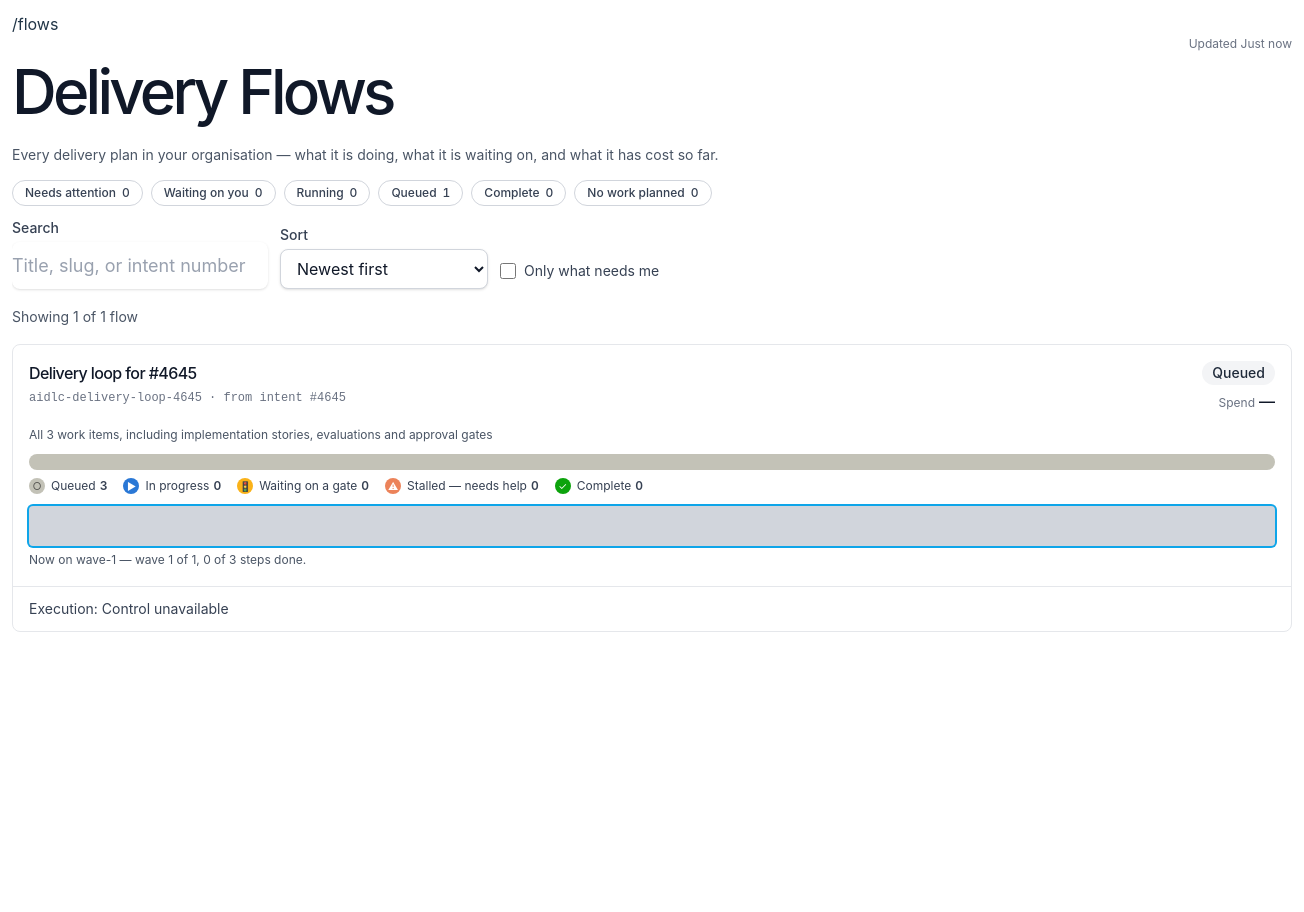
it: filters live in the query string › writes the search box into the URL
Type "4645" into the field labelled "Search". click: (140, 265)
box: [12, 242, 268, 288]
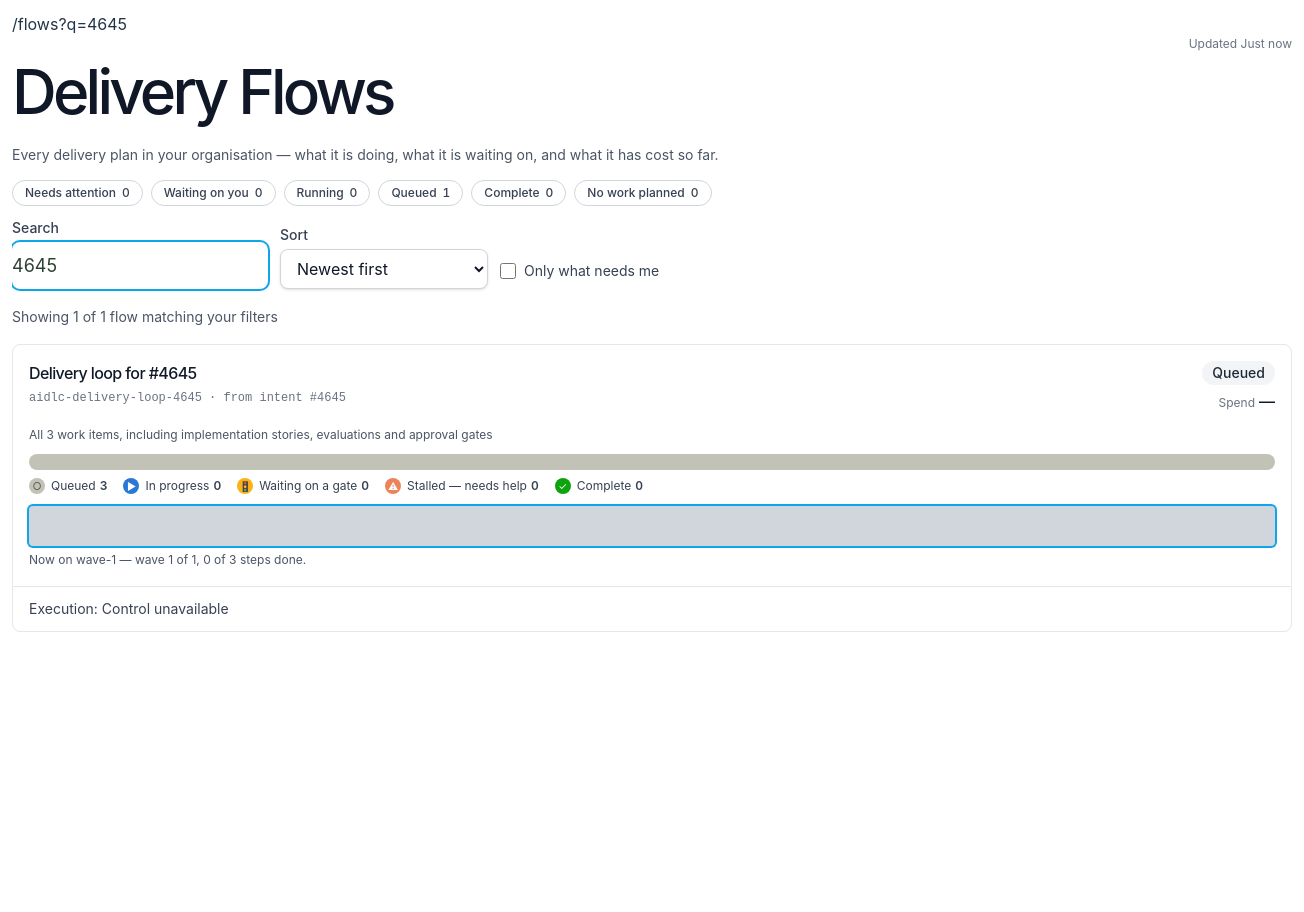
Expected: the text with test id "location" shows "q=4645", [12, 14, 127, 34]
